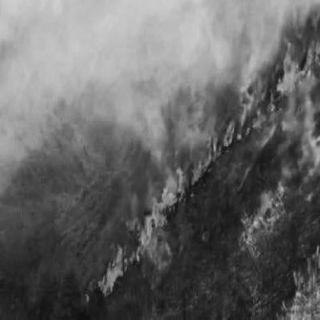Fire: (94, 241, 138, 297)
